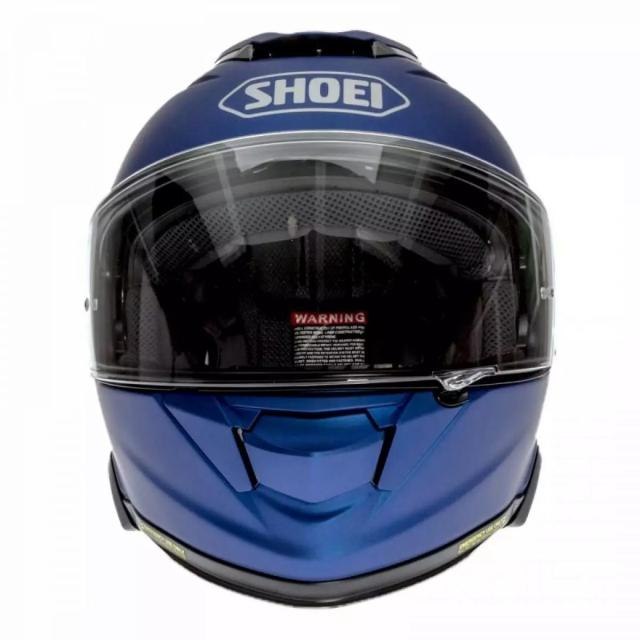Helmet: (82, 28, 560, 608)
